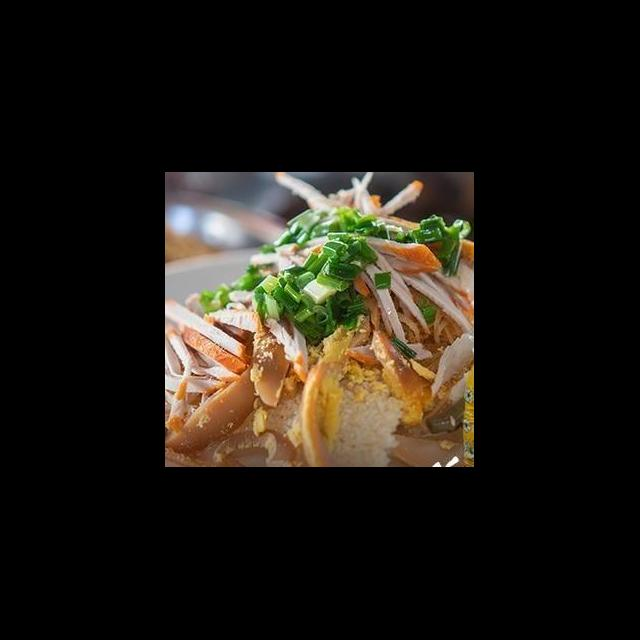bi: (356, 288, 466, 352)
com: (326, 367, 404, 468), (368, 326, 437, 426)
com suon trung: (168, 196, 474, 468)
suon: (233, 174, 474, 348), (166, 284, 264, 436)
trung: (292, 314, 372, 468), (166, 360, 264, 468), (245, 308, 298, 408)
